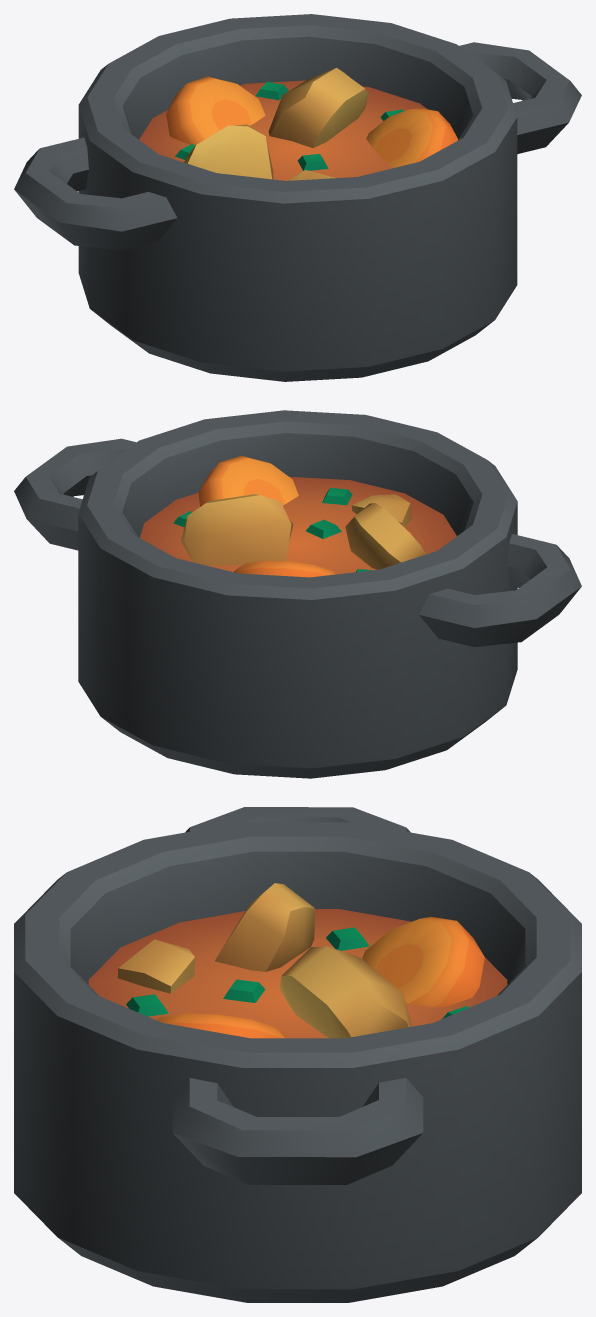
The model's file is pot_B_stew.obj.
The picture shows the model from 3 angles, top to bottom: view 1: azimuth 30°, elevation 25°; view 2: azimuth 150°, elevation 25°; view 3: azimuth 270°, elevation 25°; orthographic projection. The views are drawn at different scales.
Visible parts, largest first — view 1: pot_B_stew_Cylinder.002; view 2: pot_B_stew_Cylinder.002; view 3: pot_B_stew_Cylinder.002.
Boxes of the visible parts, x1,y1,x2,y2 form: pot_B_stew_Cylinder.002: (14,14,581,381); pot_B_stew_Cylinder.002: (14,410,581,778); pot_B_stew_Cylinder.002: (14,807,581,1302).
Size of the model in its own units: 1.4 by 0.5159 by 1.
Materials: 1 (1 with a texture image).
